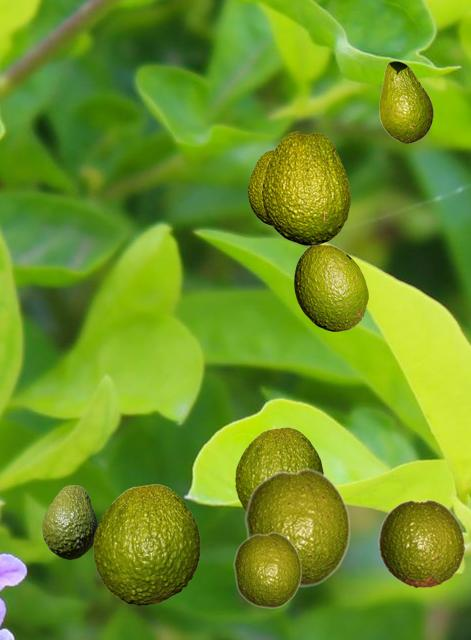avocado: (244, 467, 350, 587), (93, 484, 199, 604), (262, 131, 349, 244), (378, 499, 465, 587), (235, 427, 322, 509), (294, 244, 367, 330), (233, 531, 301, 608), (379, 61, 432, 142), (42, 485, 96, 558), (248, 150, 273, 226)
